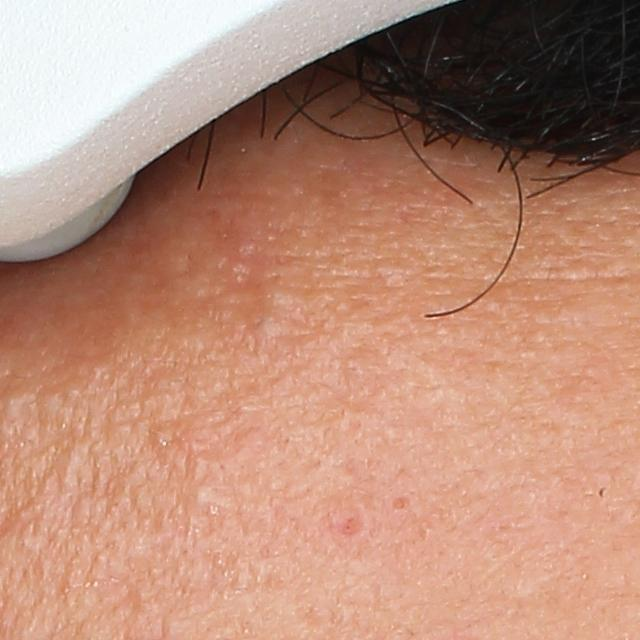atrophic_scar: (336, 515, 372, 545)
comedo: (187, 479, 223, 513), (252, 316, 286, 344), (390, 493, 414, 513)
